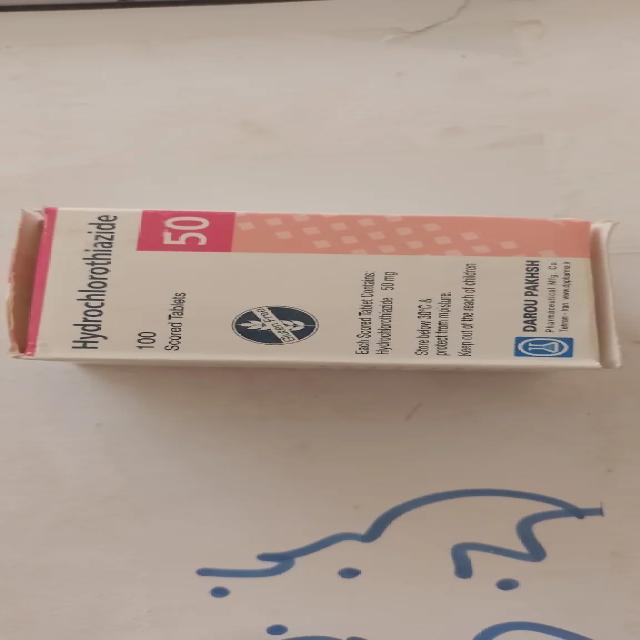drug-name: (67, 213, 129, 352)
